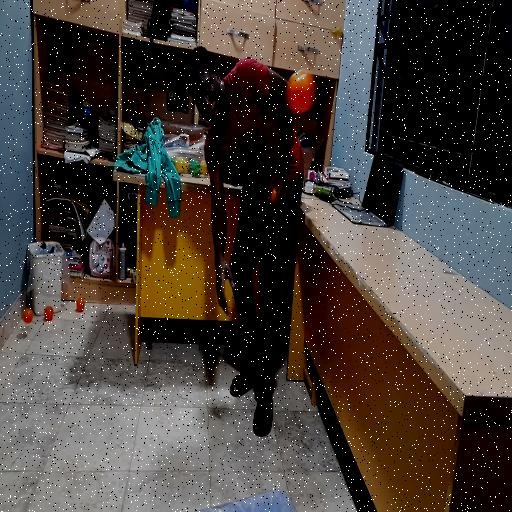plastic-ball: (284, 66, 317, 118)
